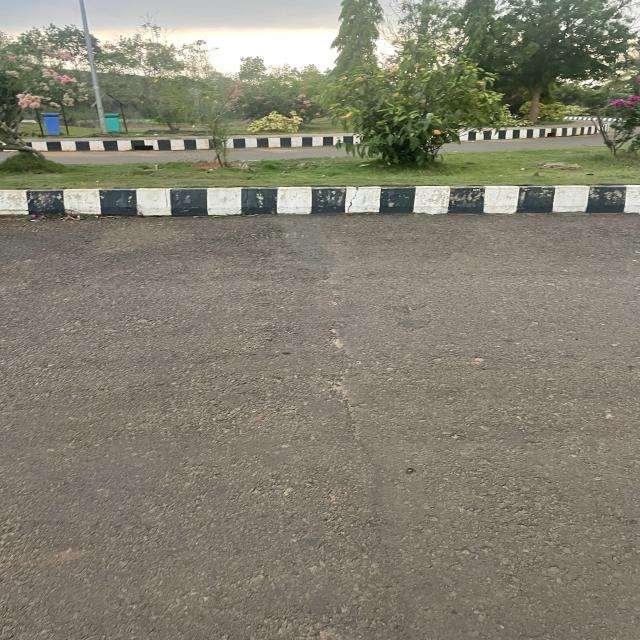D01: (274, 218, 442, 640)
